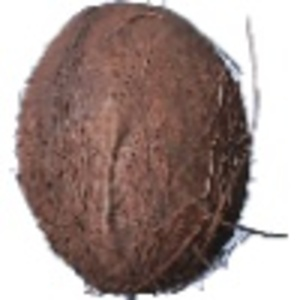coco: (16, 1, 285, 300)
